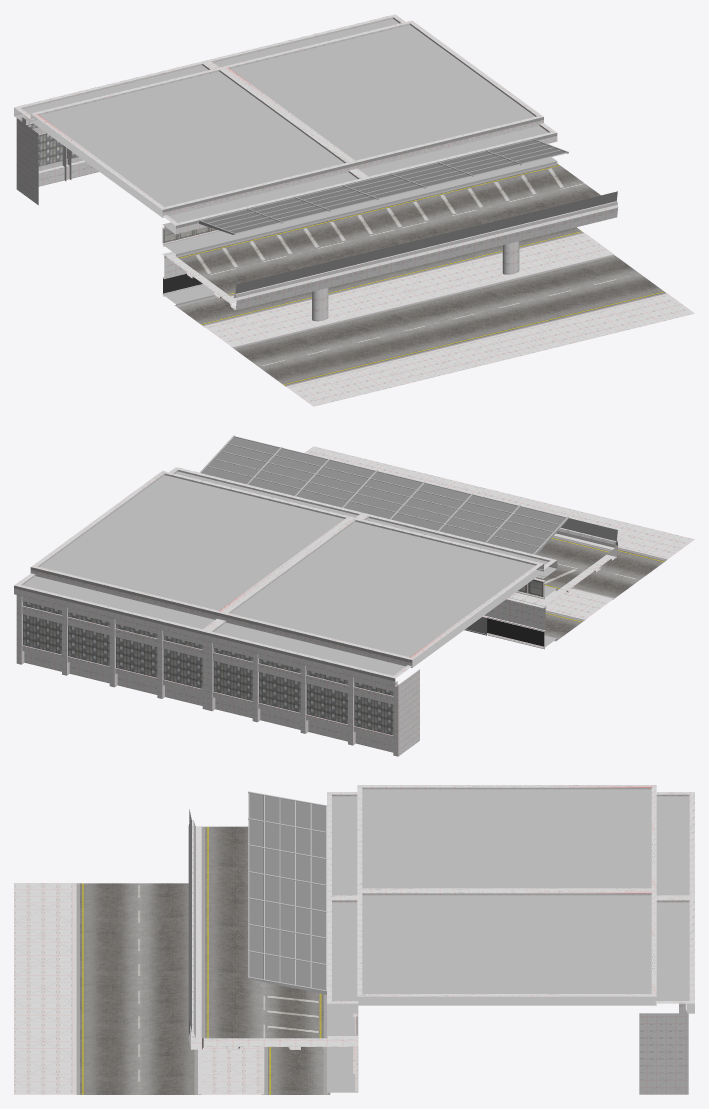
Rendered from terminal_01_b.FBX.
The picture shows the model from 3 angles, top to bottom: view 1: azimuth 30°, elevation 25°; view 2: azimuth 150°, elevation 25°; view 3: azimuth 270°, elevation 25°; orthographic projection. The views are drawn at different scales.
Visible parts, largest first — view 1: terminal_01_aa, misc_b; view 2: terminal_01_aa, misc_b; view 3: terminal_01_aa, misc_b.
Part boxes in pixels (<box>): terminal_01_aa: <box>14,14,694,406</box>; misc_b: <box>199,139,568,234</box>; terminal_01_aa: <box>14,446,694,756</box>; misc_b: <box>199,435,568,554</box>; terminal_01_aa: <box>14,785,694,1094</box>; misc_b: <box>248,791,326,994</box>.
Bounding box in the file's own units: 160 × 37 × 218.
